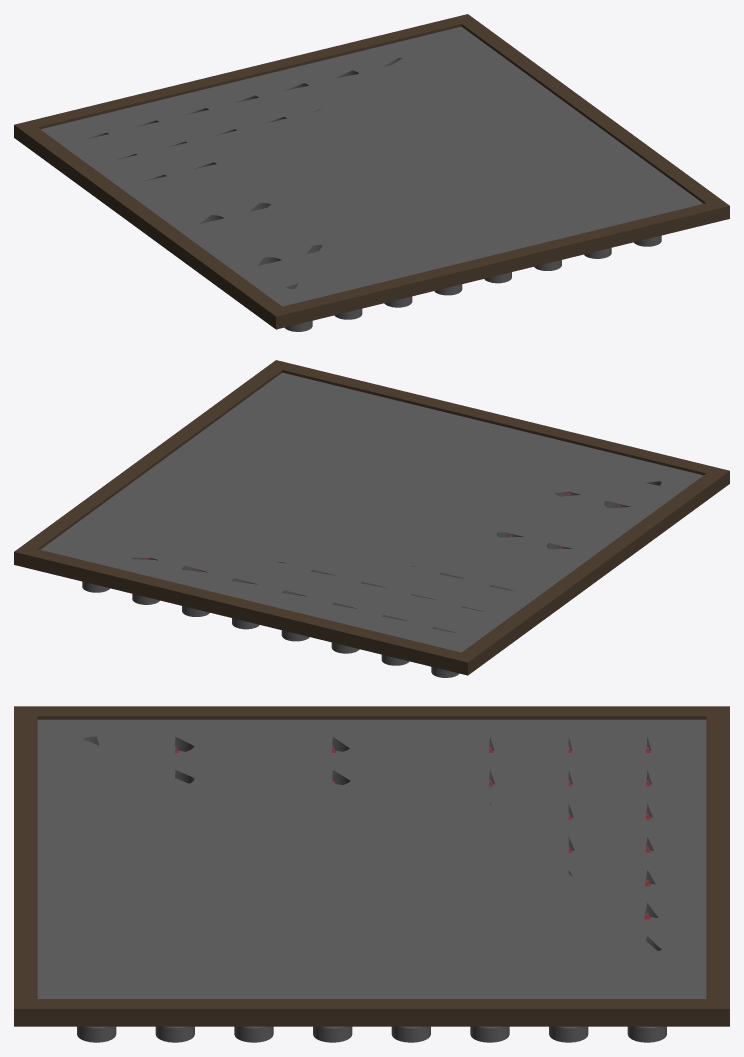
The model's file is M_TrappolaSpinosa.fbx.
The picture shows the model from 3 angles, top to bottom: view 1: azimuth 30°, elevation 25°; view 2: azimuth 150°, elevation 25°; view 3: azimuth 270°, elevation 25°; orthographic projection. The views are drawn at different scales.
Parts seen in each view (by area): view 1: Piattaforma1, Spuntoni; view 2: Piattaforma1, Spuntoni; view 3: Piattaforma1, Spuntoni.
Part boxes in pixels (x1,y1,x2,y2): Piattaforma1: (14, 14, 729, 329); Spuntoni: (285, 235, 661, 331); Piattaforma1: (14, 360, 729, 675); Spuntoni: (82, 483, 647, 677); Piattaforma1: (14, 706, 729, 1026); Spuntoni: (77, 745, 666, 1042).
Size of the model in its own units: 9.1 by 0.8479 by 9.1.
